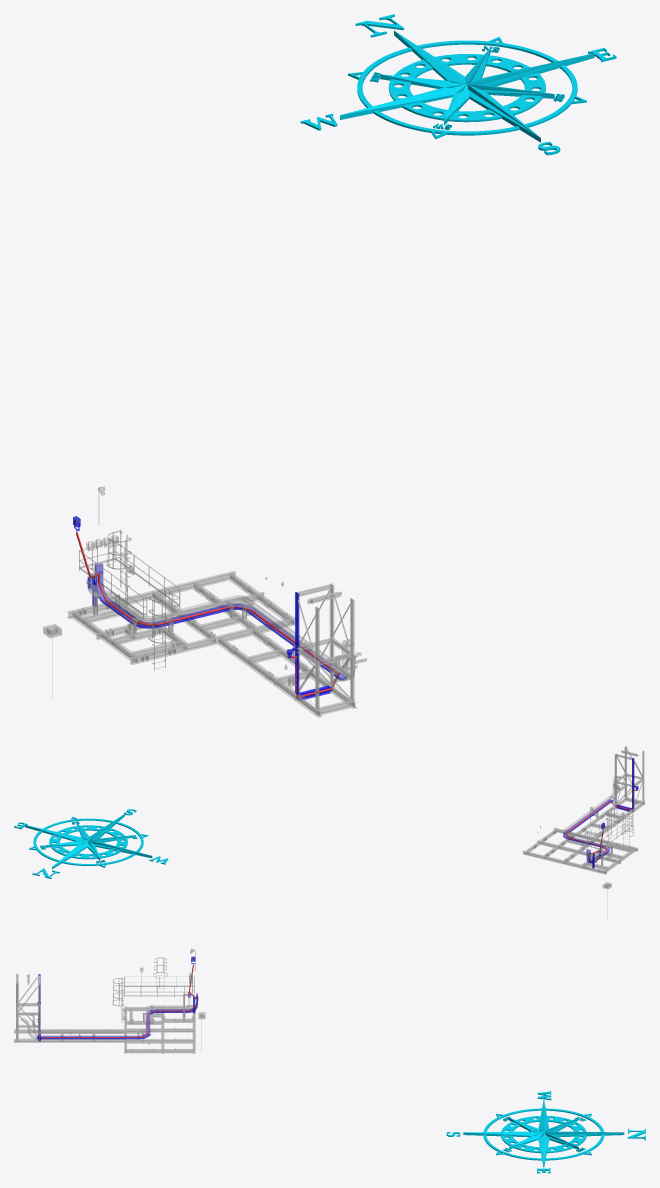
File: mini_model.glb
3 renders of one model, top to bottom at view 1: azimuth 30°, elevation 25°; view 2: azimuth 150°, elevation 25°; view 3: azimuth 270°, elevation 25°, orthographic. The views are drawn at different scales.
Parts seen in each view (by area): view 1: Compass, IfcBuildingElementProxy/None.32676, IfcBuildingElementProxy/None.32732, IfcBuildingElementProxy/None.32651, SelectedCableRoute, IfcBuildingElementProxy/None.32579, IfcBuildingElementProxy/None.32749; view 2: Compass, IfcBuildingElementProxy/None.32732, IfcBuildingElementProxy/None.32651, IfcBuildingElementProxy/None.32749, SelectedCableRoute; view 3: Compass, IfcBuildingElementProxy/None.32651, IfcBuildingElementProxy/None.32573, IfcBuildingElementProxy/None.32579, IfcBuildingElementProxy/None.32738, SelectedCableRoute.
Boxes of the visible parts, left/top/right/bottom form: Compass: left=300, top=14, right=616, bottom=155; IfcBuildingElementProxy/None.32676: left=129, top=617, right=294, bottom=664; IfcBuildingElementProxy/None.32732: left=67, top=571, right=236, bottom=619; IfcBuildingElementProxy/None.32651: left=79, top=542, right=180, bottom=617; SelectedCableRoute: left=76, top=533, right=339, bottom=697; IfcBuildingElementProxy/None.32579: left=218, top=637, right=322, bottom=717; IfcBuildingElementProxy/None.32749: left=96, top=592, right=264, bottom=640; Compass: left=14, top=809, right=168, bottom=878; IfcBuildingElementProxy/None.32732: left=523, top=850, right=606, bottom=874; IfcBuildingElementProxy/None.32651: left=582, top=813, right=632, bottom=849; IfcBuildingElementProxy/None.32749: left=537, top=840, right=621, bottom=863; SelectedCableRoute: left=565, top=789, right=636, bottom=862; Compass: left=446, top=1091, right=645, bottom=1173; IfcBuildingElementProxy/None.32651: left=124, top=976, right=194, bottom=997; IfcBuildingElementProxy/None.32573: left=36, top=1035, right=138, bottom=1039; IfcBuildingElementProxy/None.32579: left=14, top=1029, right=125, bottom=1033; IfcBuildingElementProxy/None.32738: left=14, top=1038, right=125, bottom=1042; SelectedCableRoute: left=39, top=965, right=197, bottom=1040.
Size of the model in its own units: 48.17 by 11.03 by 54.86.
